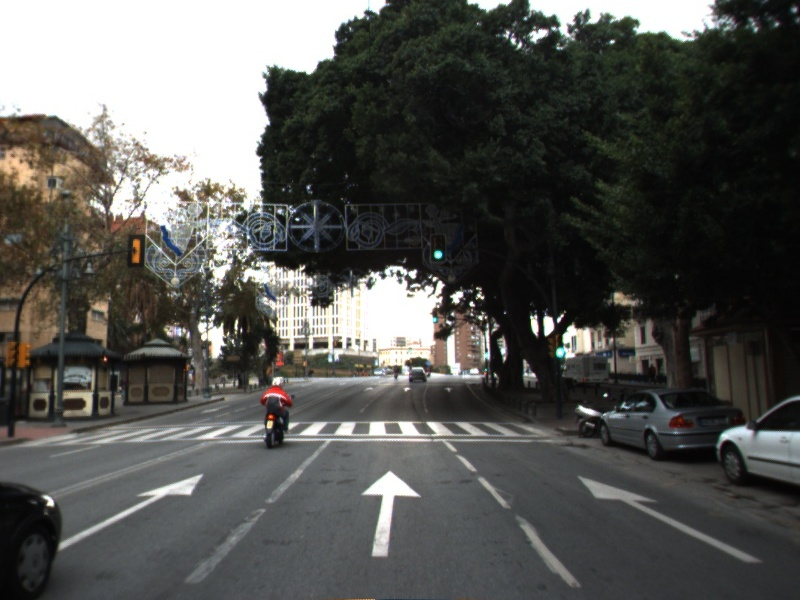STRAIGHT: (576, 472, 766, 565), (55, 471, 206, 552), (357, 467, 425, 559)
